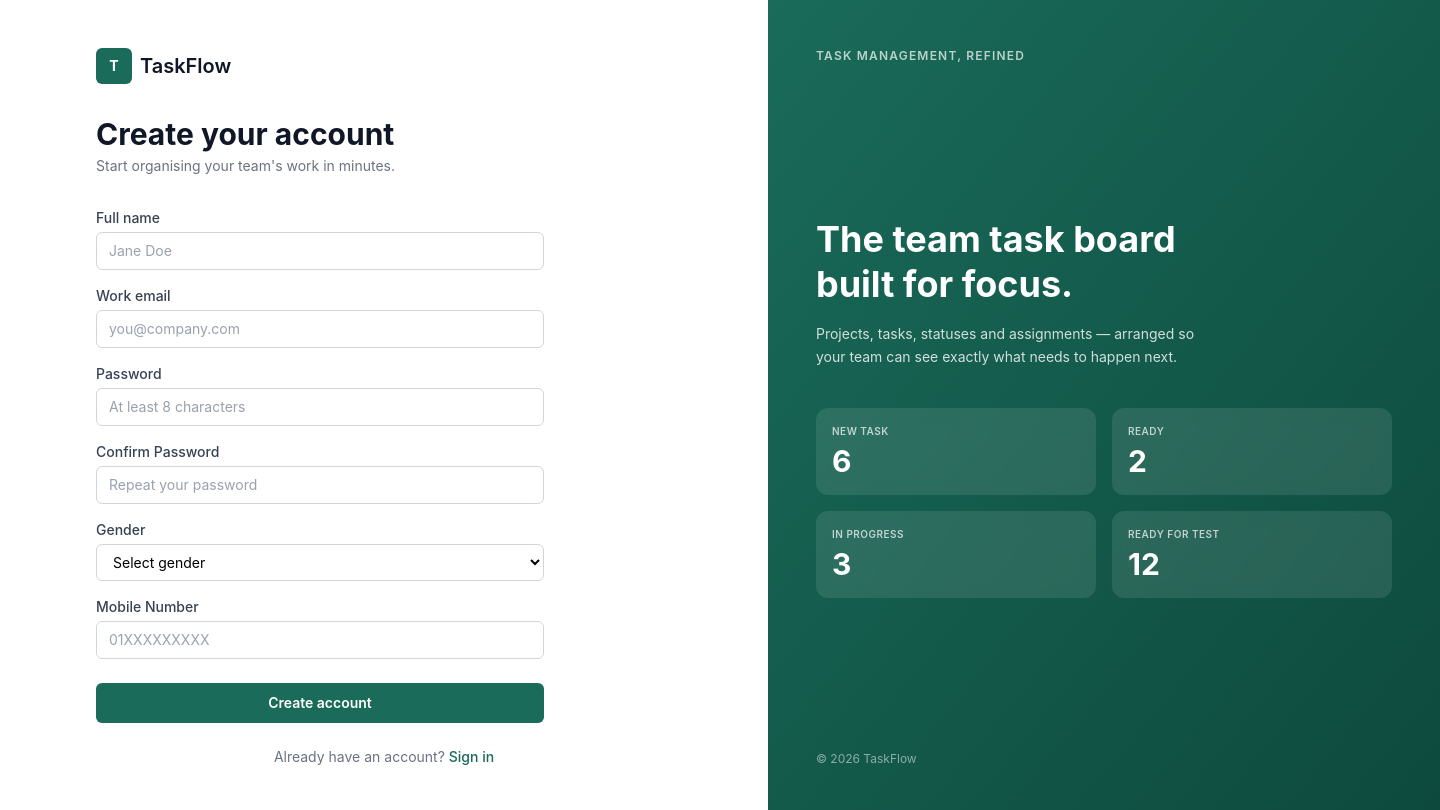
it: SignupPage Integration Tests › shows password mismatch error
The image size is (1440, 810).
In the field labelled "Full name": coordinates (320, 251) [96,232,544,270], type "New User"
In the field labelled "Work email": coordinates (320, 329) [96,310,544,348], type "new@example.com"
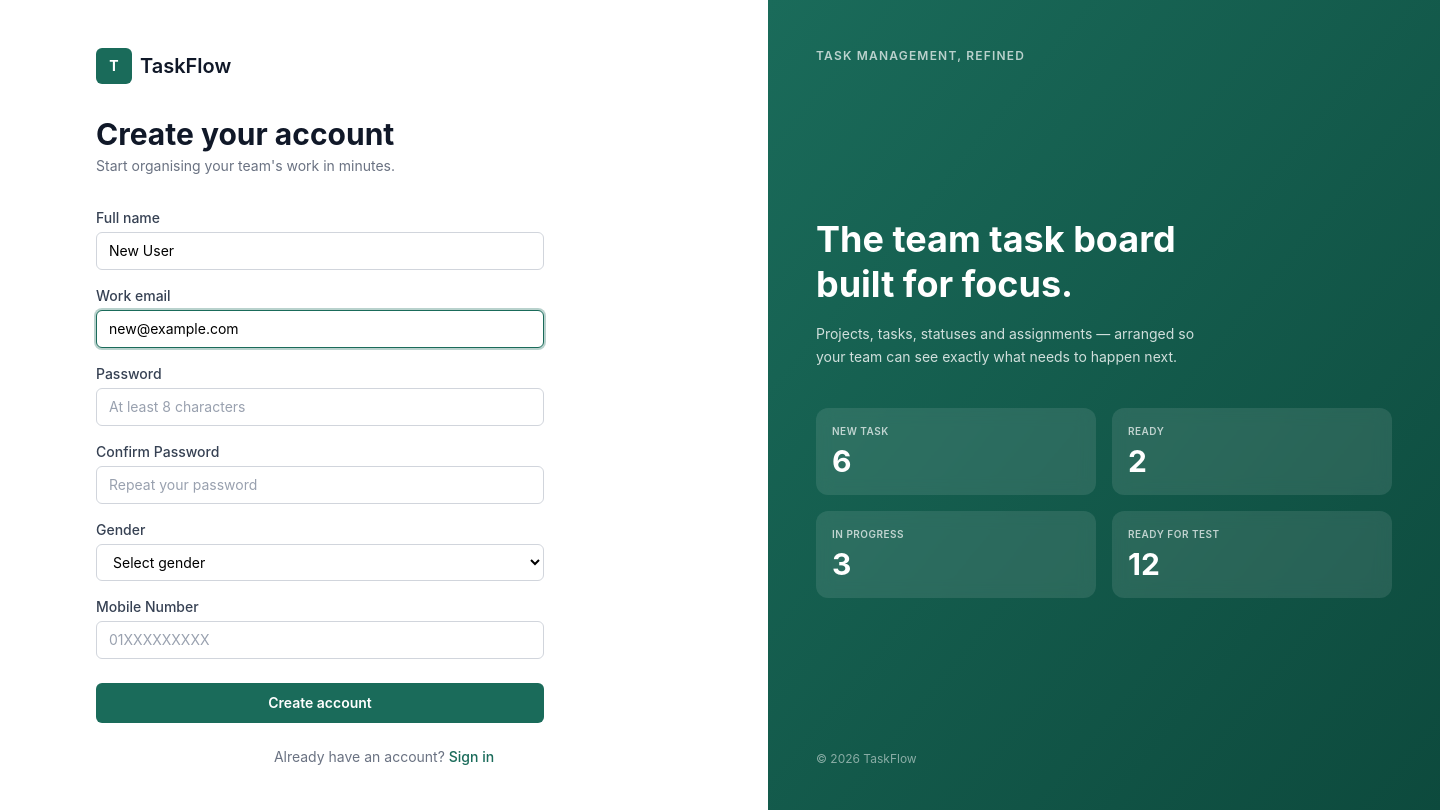
Select "Male" in the dropdown labelled "Gender": coordinates (320, 562) [96,544,544,581]
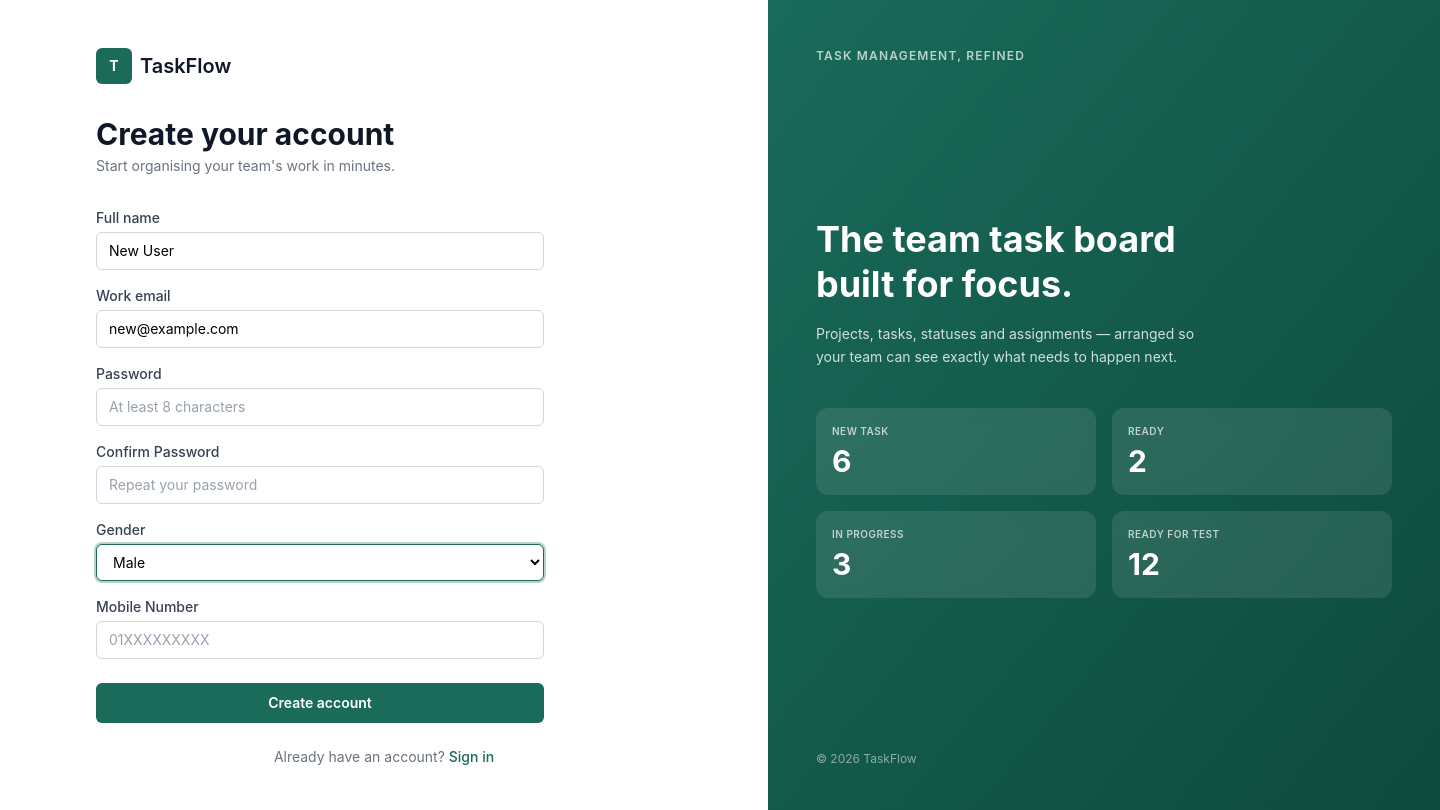
In the field labelled "Mobile Number": coordinates (320, 640) [96,621,544,659], type "01012345678"
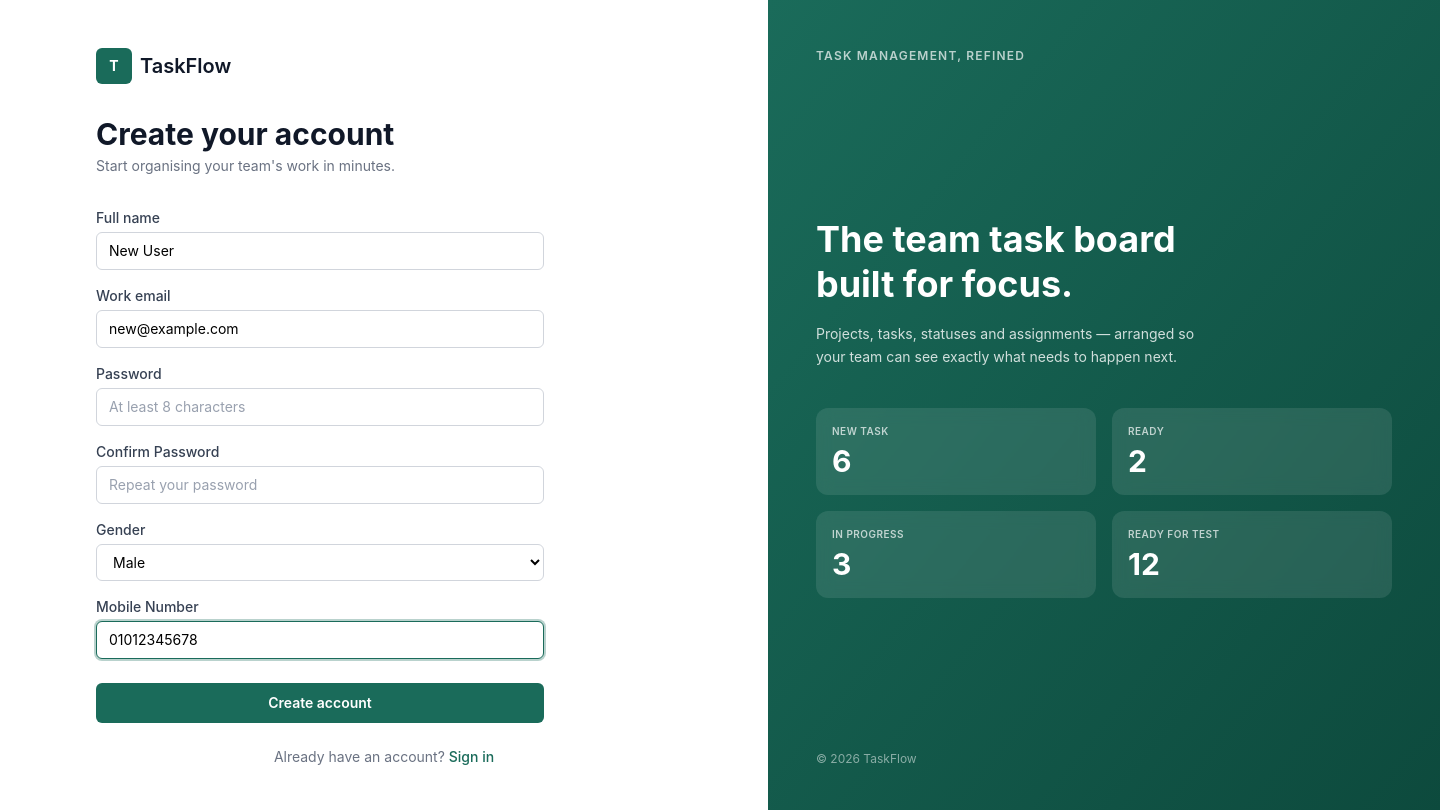
In the password field labelled "Password": coordinates (320, 407) [96,388,544,426], type "Test1234"
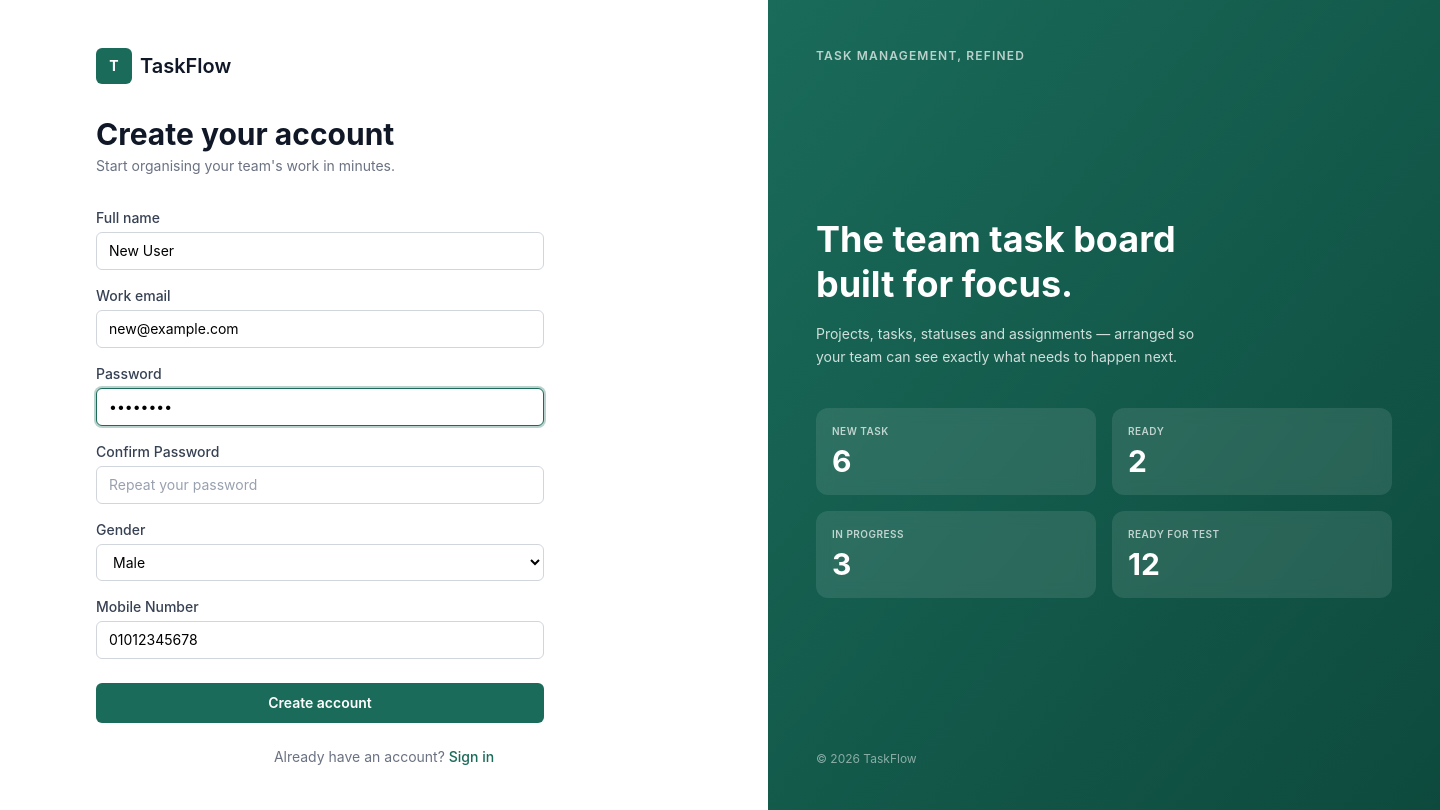
In the password field labelled "Confirm Password": coordinates (320, 485) [96,466,544,504], type "Test5678"
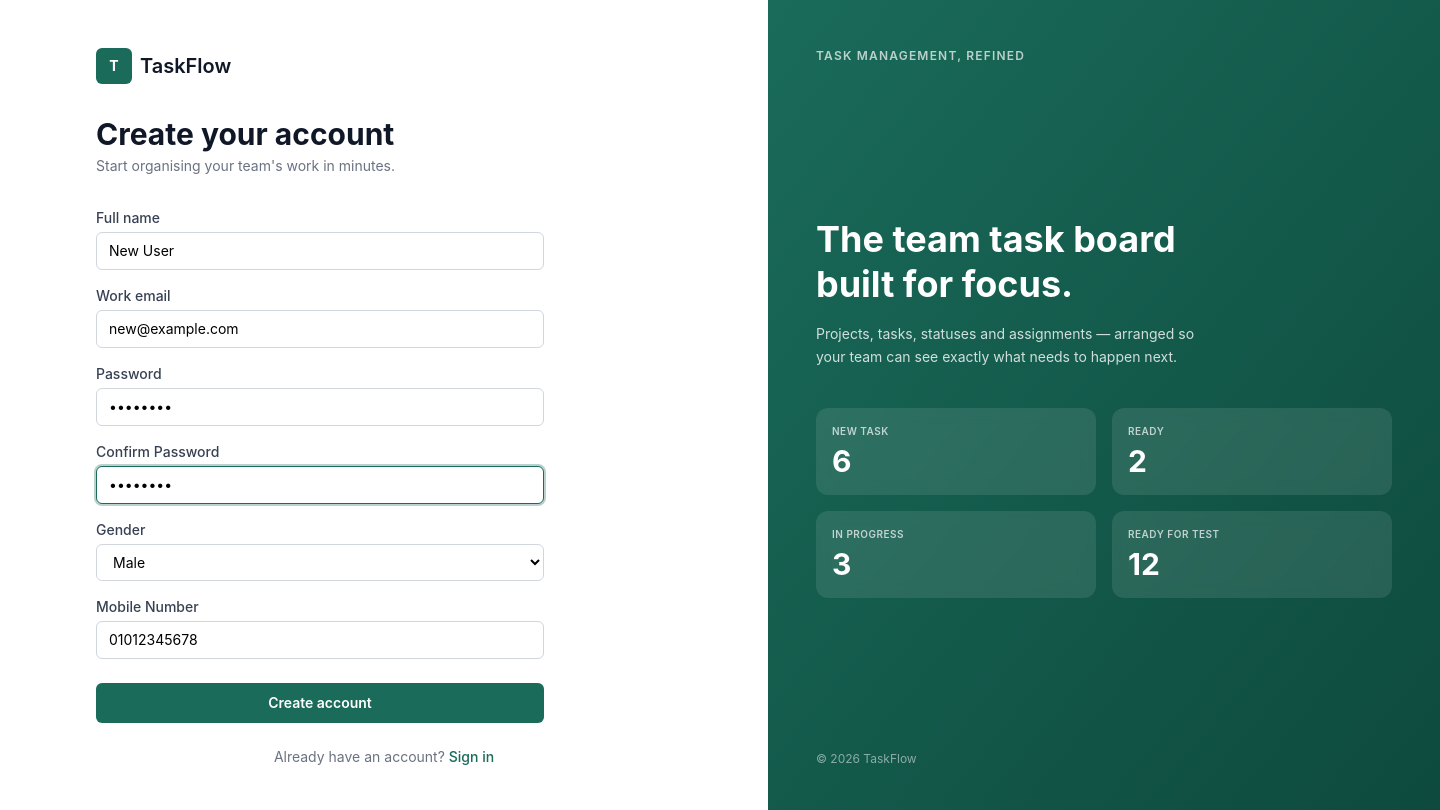
Click the button "Create account": coordinates (320, 703) [96,683,544,723]
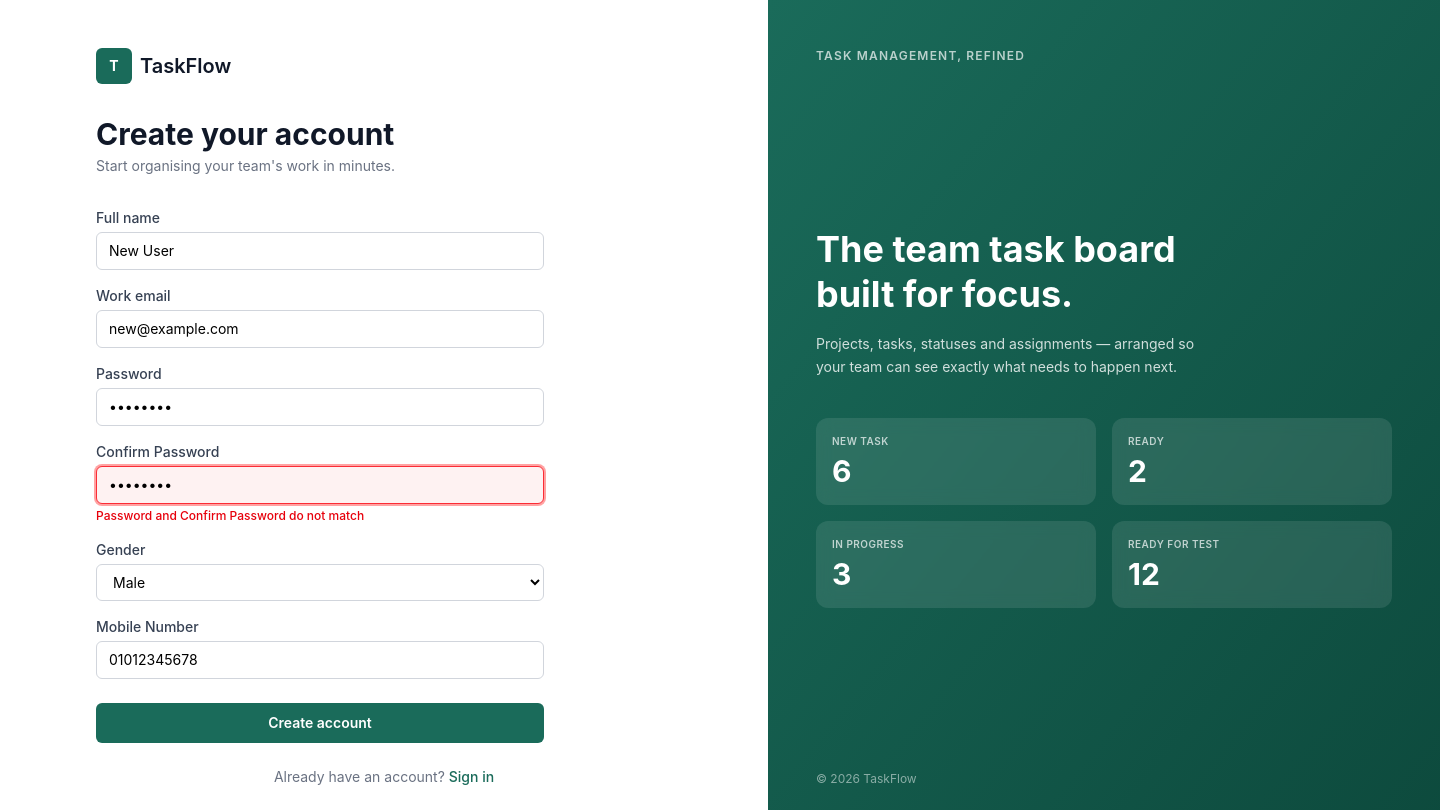
Expected: the text "Password and Confirm Password do not match" is shown, [96,508,364,523]
